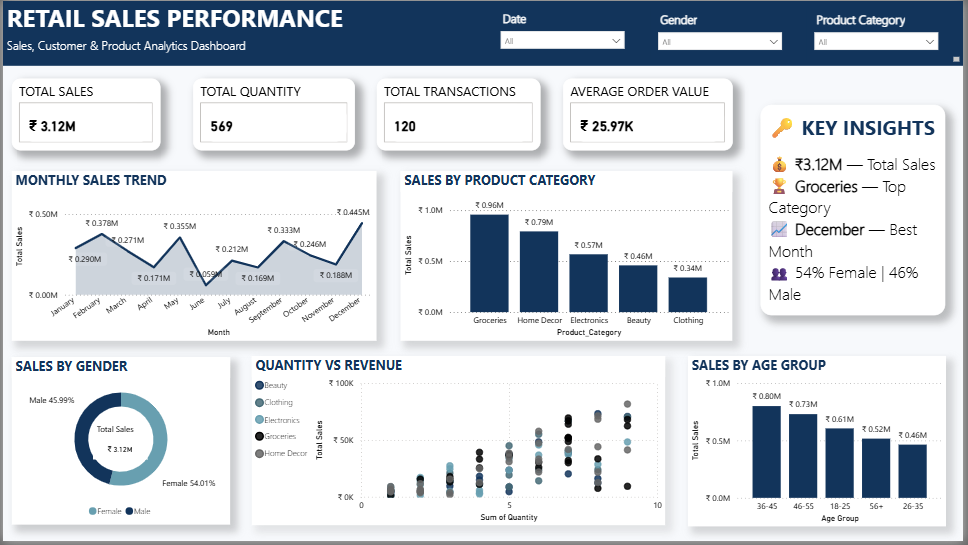

The page's visual inventory and layout, read from the dashboard file:
{"tool":"powerbi","page":{"name":"Page 2","canvas":[1280,720],"ordinal":0},"visuals":[{"type":"textbox","title":"RETAIL SALES PERFORMANCE","box":[0,0,1280,86],"z":0},{"type":"cardVisual","title":"TOTAL SALES","fields":{"Data":["Sheet1.TTotal Sales"]},"box":[12,104,198,96],"z":1000},{"type":"cardVisual","title":"TOTAL QUANTITY","fields":{"Data":["Sum(Sheet1.Quantity)"]},"box":[254,104,216,96],"z":2000},{"type":"cardVisual","title":"TOTAL TRANSACTIONS","fields":{"Data":["CountNonNull(Sheet1.Transaction_ID)"]},"box":[498,104,218,96],"z":3000},{"type":"cardVisual","title":"AVERAGE ORDER VALUE","fields":{"Data":["Avg(Sheet1.Total_Amount)"]},"box":[746,104,226,96],"z":4000},{"type":"slicer","fields":{"Values":["Sheet1.Date"]},"box":[654,6,185.6,72.2],"z":5000},{"type":"slicer","fields":{"Values":["Sheet1.Gender"]},"box":[864,8,185.6,70],"z":6000},{"type":"slicer","fields":{"Values":["Sheet1.Product_Category"]},"box":[1072,8,185.6,70],"z":7000},{"type":"lineChart","title":"MONTHLY SALES TREND","fields":{"Category":["Sheet1.Date.Variation.Date Hierarchy.Month"],"Y":["Sheet1.TTotal Sales"]},"box":[12,226,486,226],"z":8000},{"type":"columnChart","title":"SALES BY PRODUCT CATEGORY","fields":{"Category":["Sheet1.Product_Category"],"Y":["Sheet1.TTotal Sales"]},"box":[530,226,442,226],"z":9000},{"type":"donutChart","title":"SALES BY GENDER","fields":{"Category":["Sheet1.Gender"],"Y":["Sheet1.TTotal Sales"]},"box":[11.4,475.7,291.4,222.9],"z":10000},{"type":"cardVisual","title":"Total Sales","fields":{"Data":["Sheet1.TTotal Sales"]},"box":[120,562.9,72.5,48.3],"z":11000},{"type":"clusteredColumnChart","title":"SALES BY AGE GROUP","fields":{"Category":["Sheet1.Age Group"],"Y":["Sheet1.TTotal Sales"]},"box":[912.9,472.9,344.3,227.1],"z":12000},{"type":"scatterChart","title":"QUANTITY VS REVENUE","fields":{"Y":["Sheet1.TTotal Sales"],"Series":["Sheet1.Product_Category"],"Category":["Sheet1.Transaction_ID"],"X":["Sum(Sheet1.Quantity)"]},"box":[331.4,472.9,551.4,225.7],"z":13000},{"type":"textbox","box":[1010,138.9,246.7,281.1],"z":14000}]}

Visuals, with their boxes in screenshot pixels (x1, y1, x2, y2), scaled from the page's 1280x720 canvas onto the 968x545 screenshot:
"RETAIL SALES PERFORMANCE" textbox: Rect(0, 0, 967, 65)
"TOTAL SALES" cardVisual: Rect(9, 79, 159, 151)
"TOTAL QUANTITY" cardVisual: Rect(192, 79, 355, 151)
"TOTAL TRANSACTIONS" cardVisual: Rect(377, 79, 541, 151)
"AVERAGE ORDER VALUE" cardVisual: Rect(564, 79, 735, 151)
slicer - Sheet1.Date: Rect(495, 5, 635, 59)
slicer - Sheet1.Gender: Rect(653, 6, 794, 59)
slicer - Sheet1.Product_Category: Rect(811, 6, 951, 59)
"MONTHLY SALES TREND" lineChart: Rect(9, 171, 377, 342)
"SALES BY PRODUCT CATEGORY" columnChart: Rect(401, 171, 735, 342)
"SALES BY GENDER" donutChart: Rect(9, 360, 229, 529)
"Total Sales" cardVisual: Rect(91, 426, 146, 463)
"SALES BY AGE GROUP" clusteredColumnChart: Rect(690, 358, 951, 530)
"QUANTITY VS REVENUE" scatterChart: Rect(251, 358, 668, 529)
textbox: Rect(764, 105, 950, 318)
